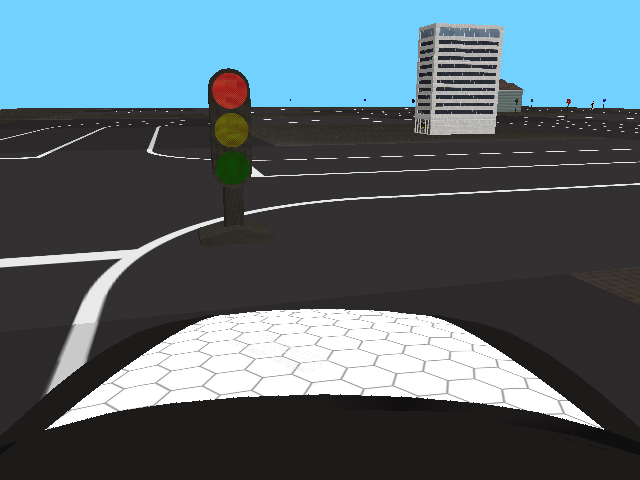red_light: (208, 67, 253, 188)
